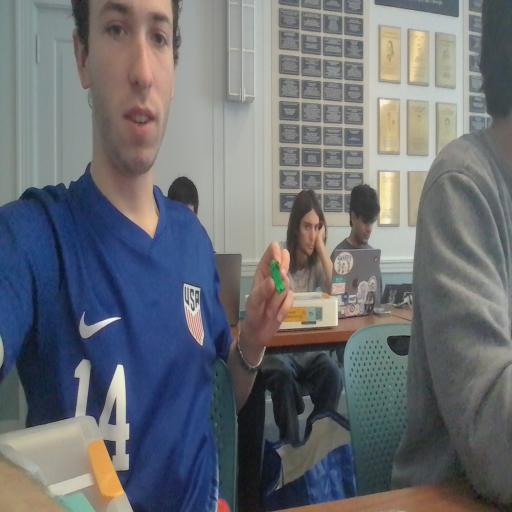green LEGO minifig: (268, 257, 286, 296)
